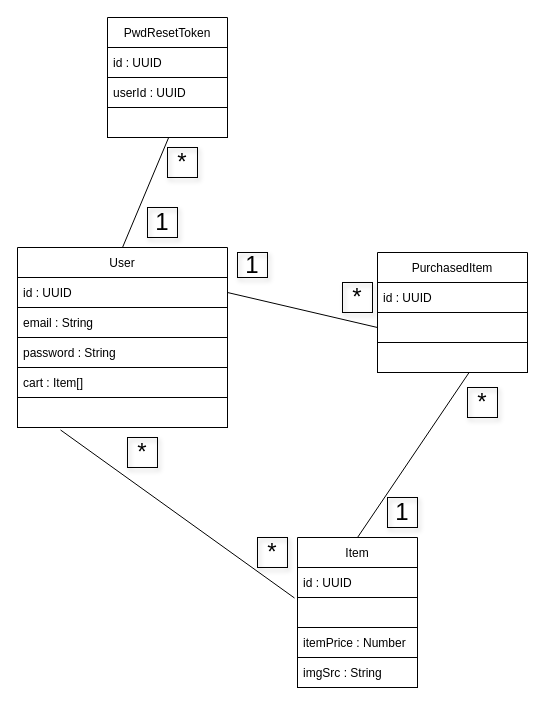
This 545x705 diagram has some shape labels left out. The shapes that lost their labels are listed below. From the top down, each one's centre as x and y in pixels, then its label:
At pixel 167 122: "token : UUID".
At pixel 452 327: "itemId : UUID".
At pixel 452 357: "userId: UUID".
At pixel 122 412: "purchasedItems: PurchasedItem[]".
At pixel 357 612: "itemName : String".
